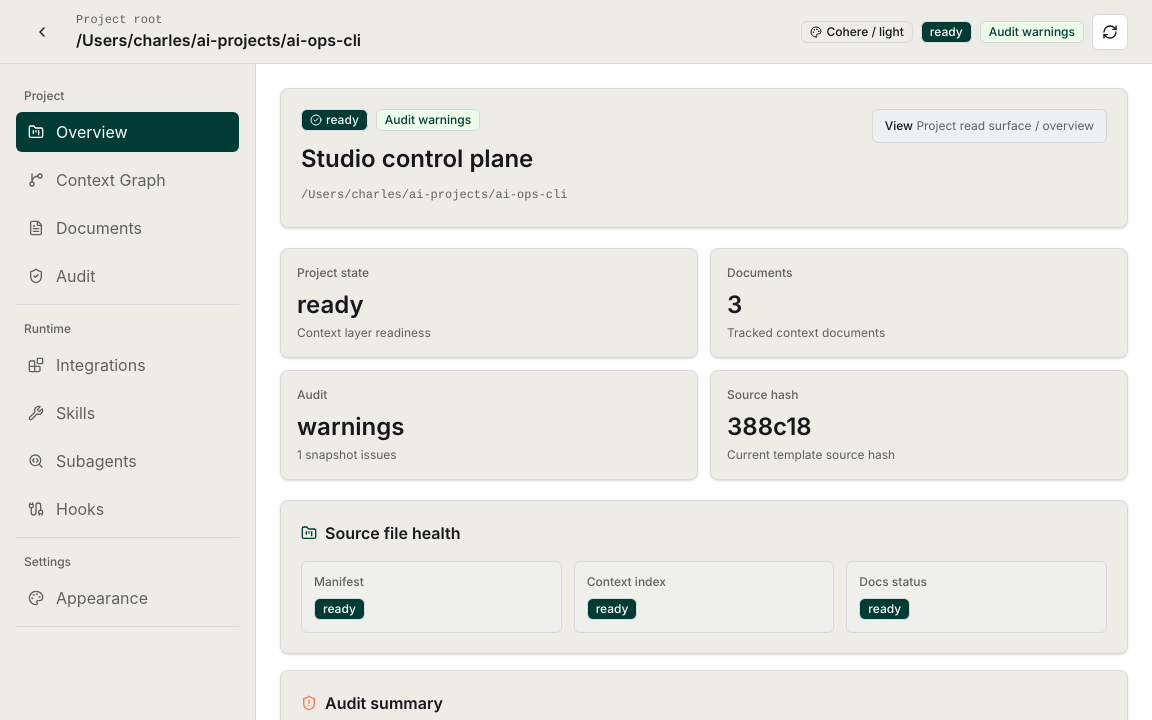
Test case: App shell › shows Reserved trust and hash warnings in the document list and Inspector
Click the button "Documents".
click(128, 228)  # box [16,208,239,248]
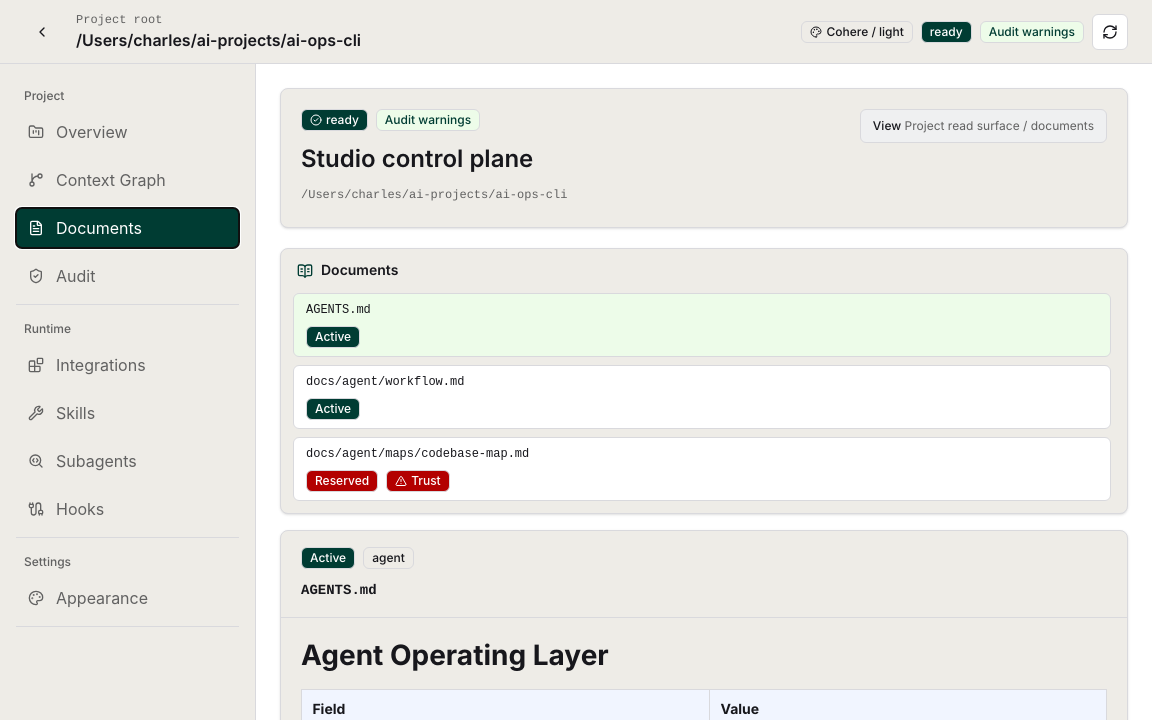
Click the button "docs/agent/maps/codebase-map.md Reserved Trust".
click(418, 454)  # box [293,437,1111,501]
(page scrolled)
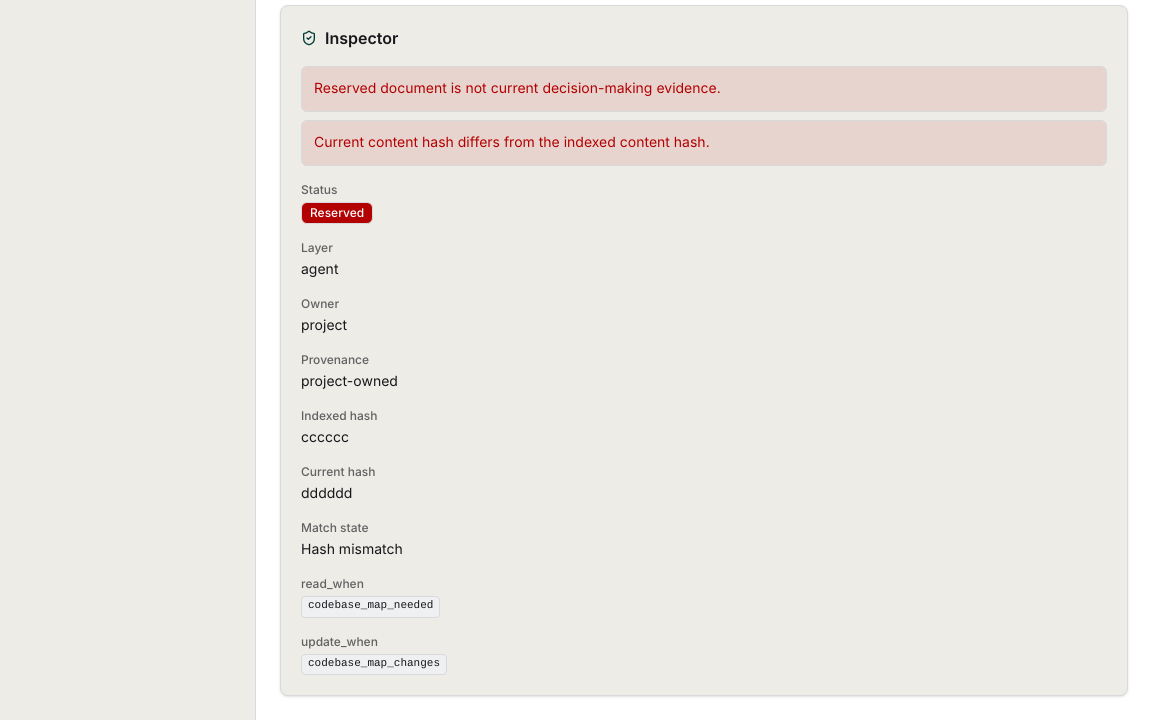
Result: the element with test id "inspector-warnings" shows "Current content hash differs from the indexed content hash." at [314,134,710,151]
Result: the text "codebase_map_needed" is shown at [301,596,440,618]
Result: the text "codebase_map_changes" is shown at [301,654,447,675]
